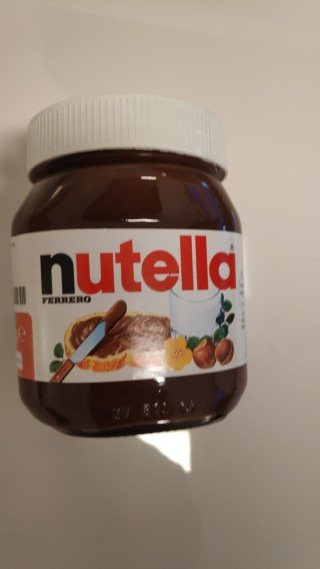nutella: (7, 89, 252, 441)
